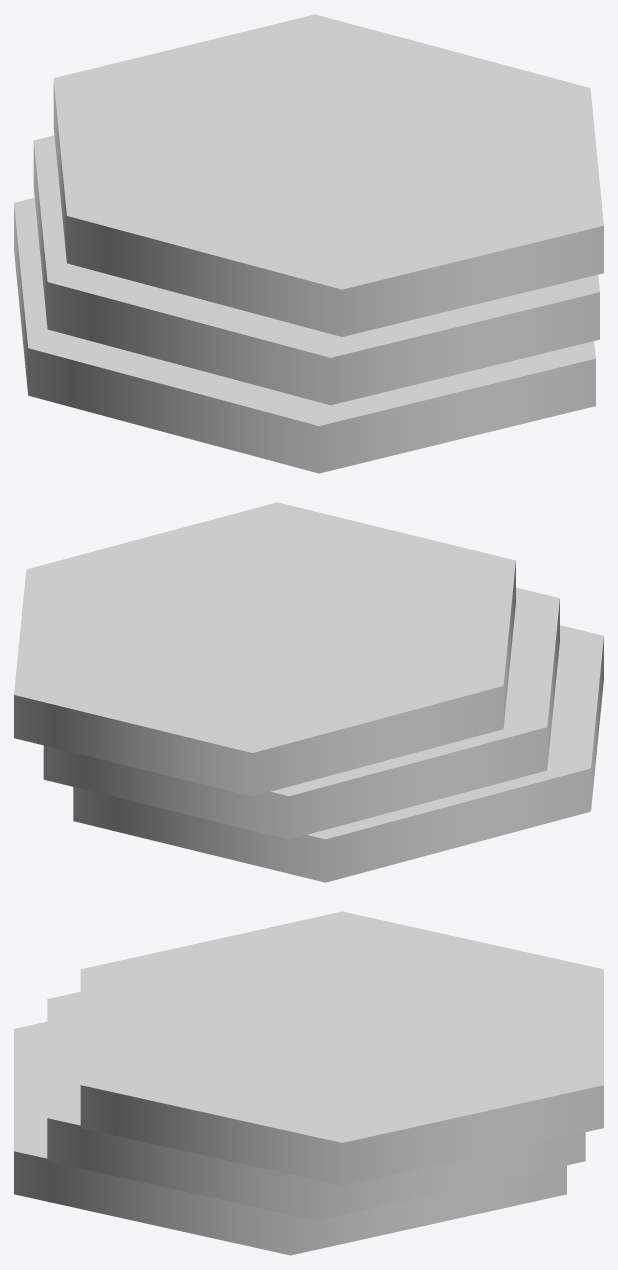
Rendered from item_rm_gravlite_c.obj.
The picture shows the model from 3 angles, top to bottom: view 1: azimuth 30°, elevation 25°; view 2: azimuth 150°, elevation 25°; view 3: azimuth 270°, elevation 25°; orthographic projection. The views are drawn at different scales.
Visible parts, largest first — view 1: source_component_002, source_component_000, source_component_001; view 2: source_component_002, source_component_000, source_component_001; view 3: source_component_002, source_component_000, source_component_001.
Boxes of the visible parts, box(x1,y1,x2,y2) form: source_component_002: box(53, 14, 603, 336); source_component_000: box(14, 197, 595, 473); source_component_001: box(33, 135, 599, 405); source_component_002: box(14, 502, 515, 796); source_component_000: box(73, 625, 603, 882); source_component_001: box(43, 587, 559, 839); source_component_002: box(80, 911, 603, 1185); source_component_000: box(14, 1021, 566, 1255); source_component_001: box(47, 992, 585, 1220).
Bounding box in the file's own units: 0.8453 × 0.1947 × 0.8066.
